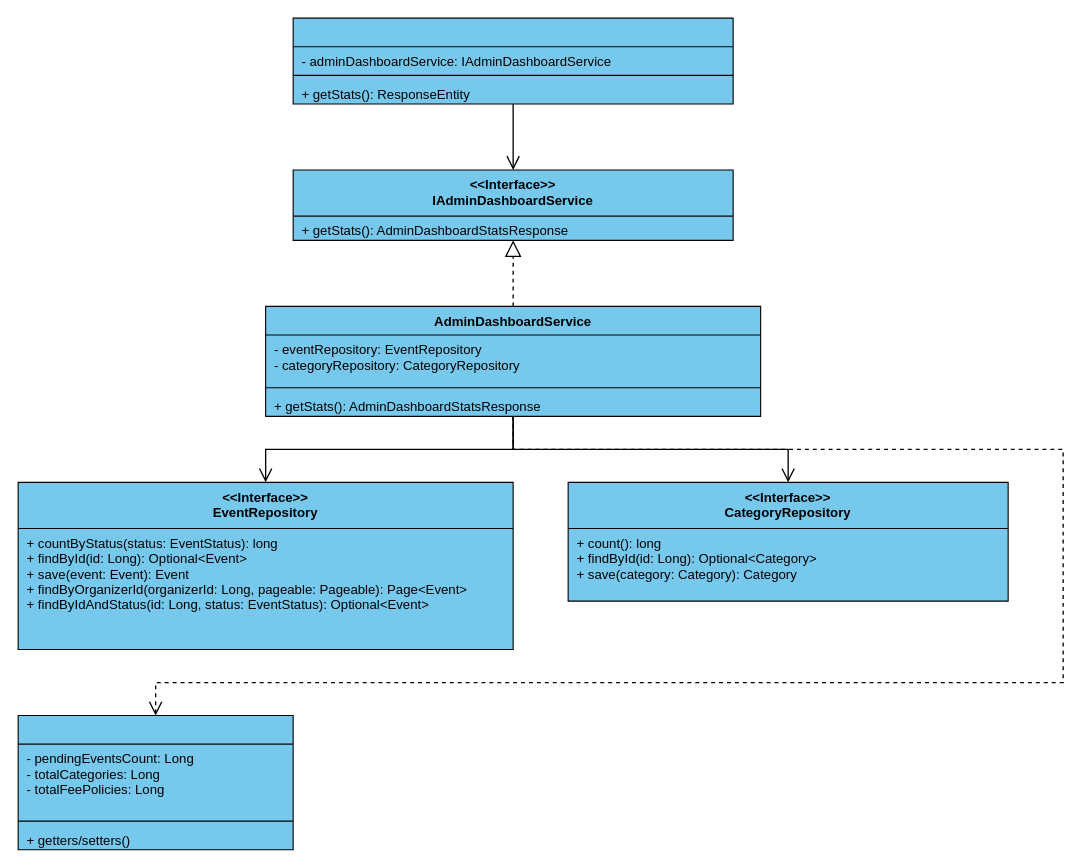
Some shapes in this 1081 by 868 pixel diagram are drawn without their labels. Each missing label, with the box of its shape:
AdminDashboardController: (292, 17, 733, 104)
AdminDashboardStatsResponse: (17, 714, 293, 850)
